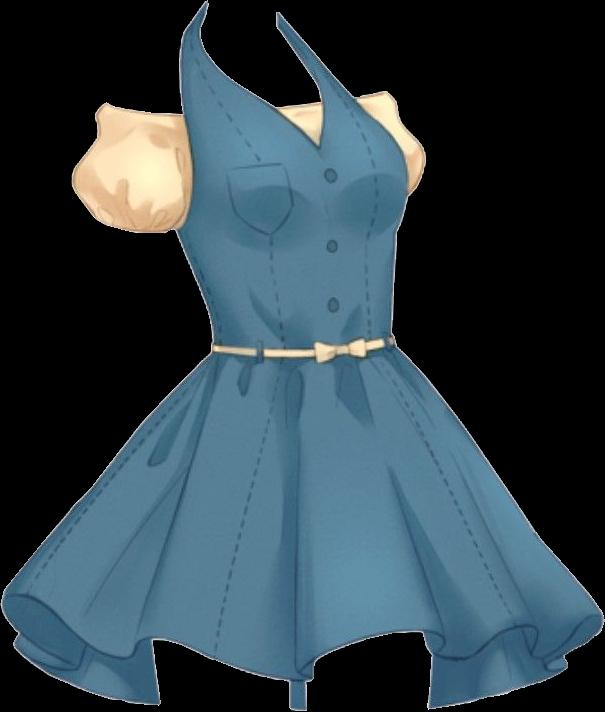Bodice: (174, 0, 410, 360)
Hemline: (0, 590, 604, 686)
Neckline: (194, 0, 330, 112), (268, 96, 329, 155)
Skirt: (2, 346, 603, 711)
Sleeve: (72, 102, 190, 232)
Sleeveline: (171, 112, 197, 231)
Waistline: (207, 340, 395, 364)
